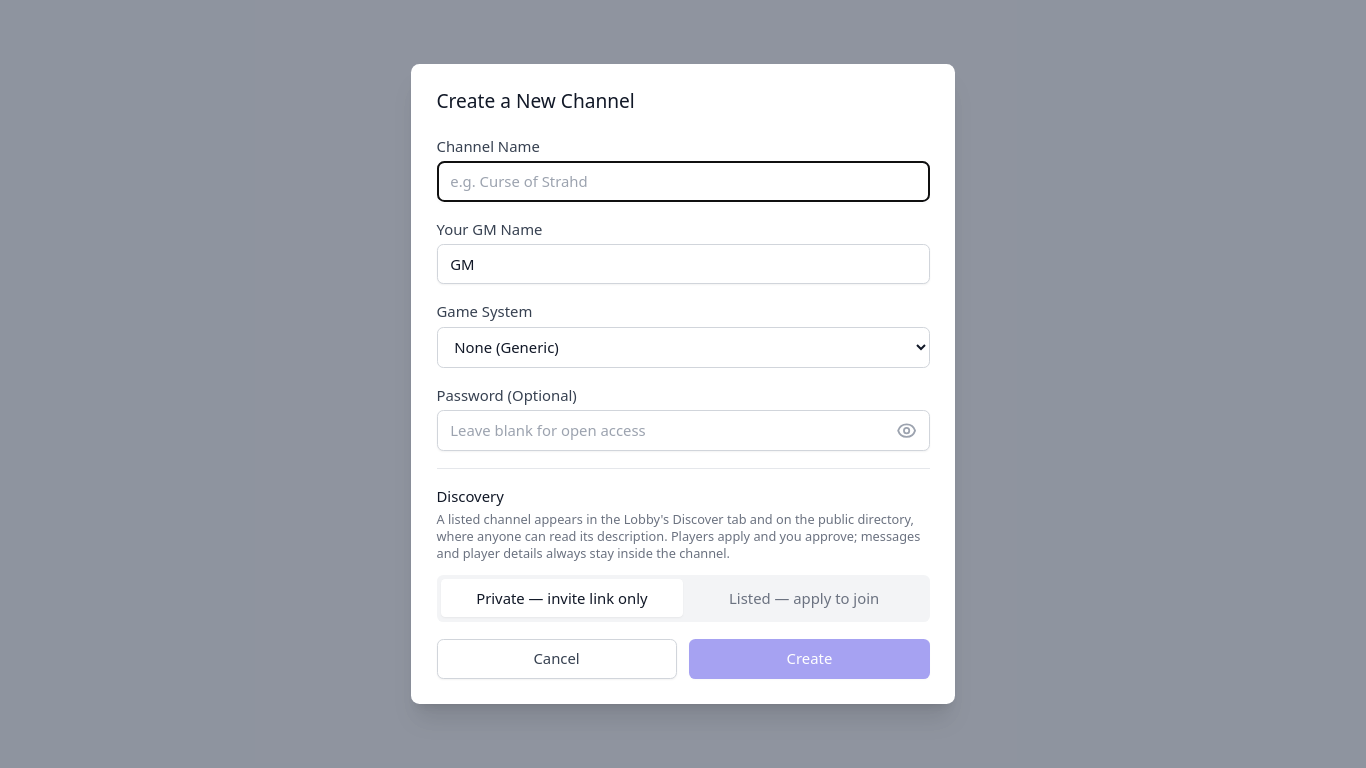
CreateChannelModal › handles creation error from the RPC
The width and height of the screenshot is (1366, 768).
Type "New Game" into the field labelled "Channel Name". click: [683, 182]
box: [436,161,930,202]
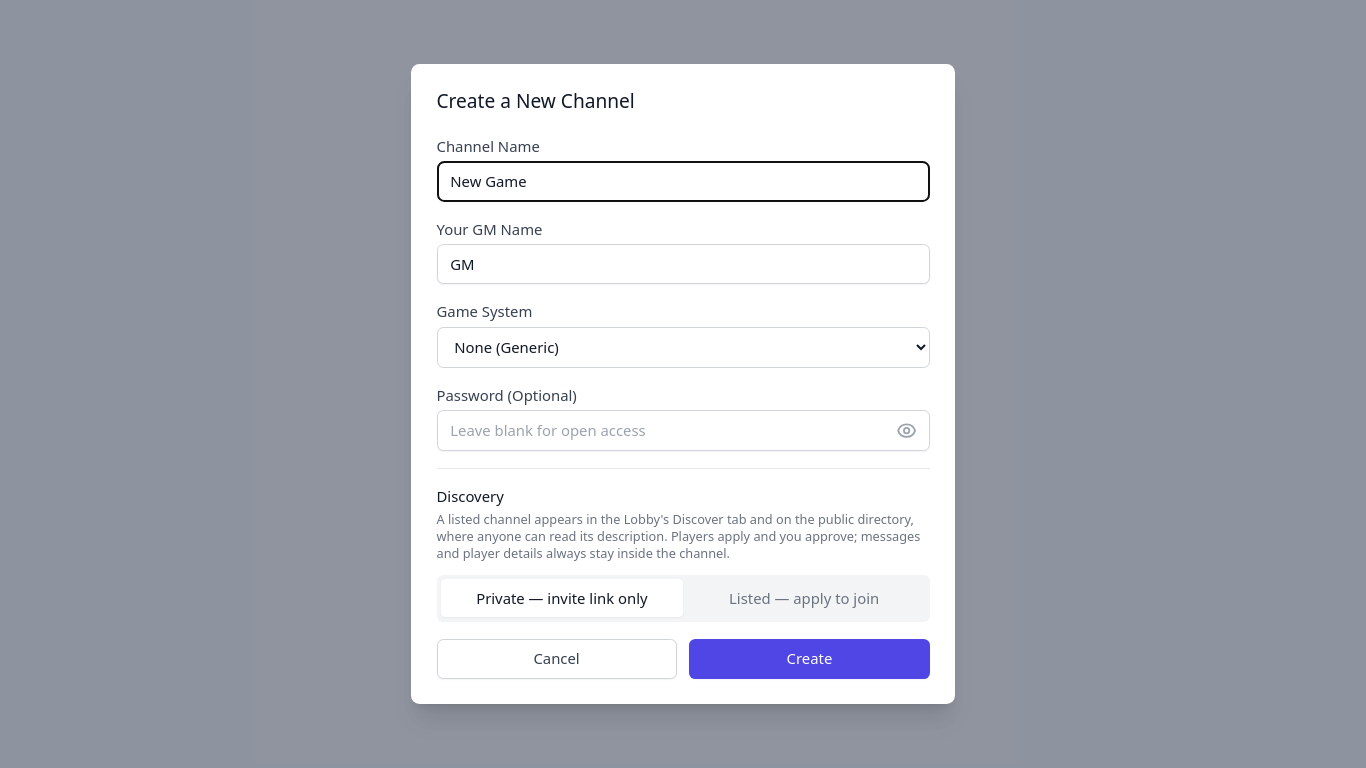
Click the button "Create". click: [809, 659]
box: [689,639,930,679]
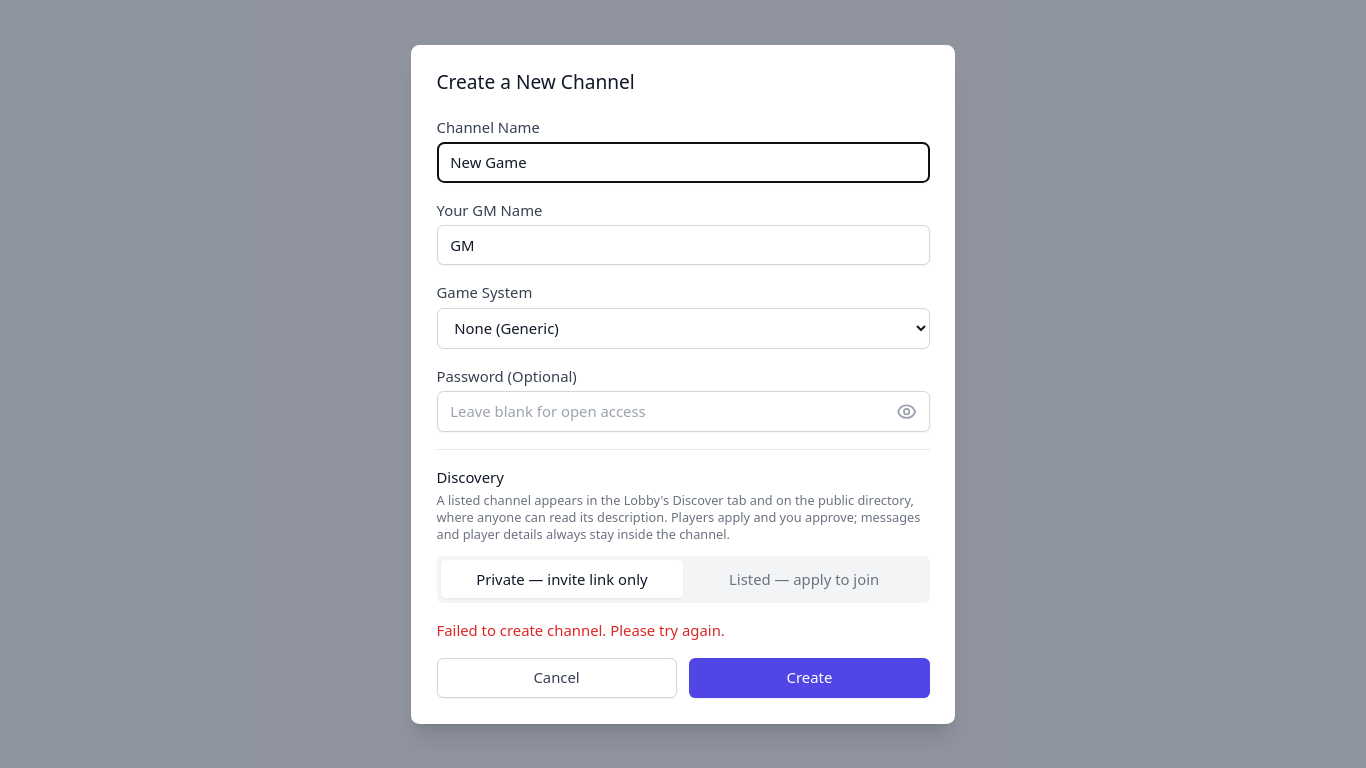
Now the text "Failed to create channel. Please try again." is shown, box [436,620,725,640]
